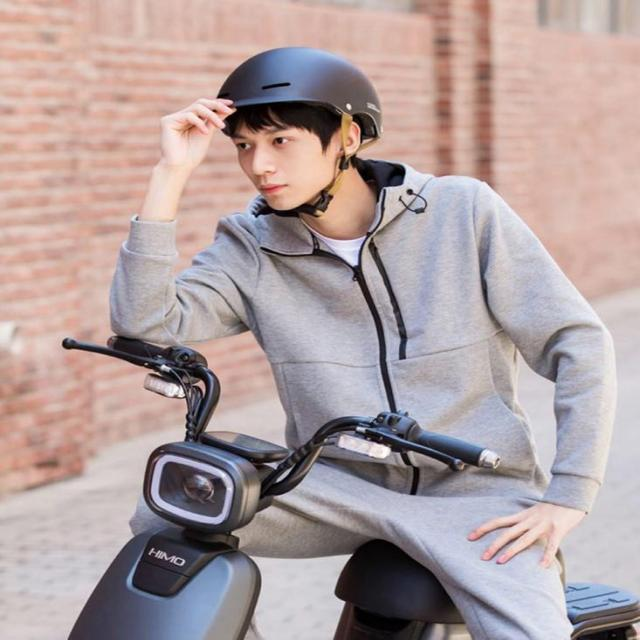helmet: (216, 48, 380, 222)
